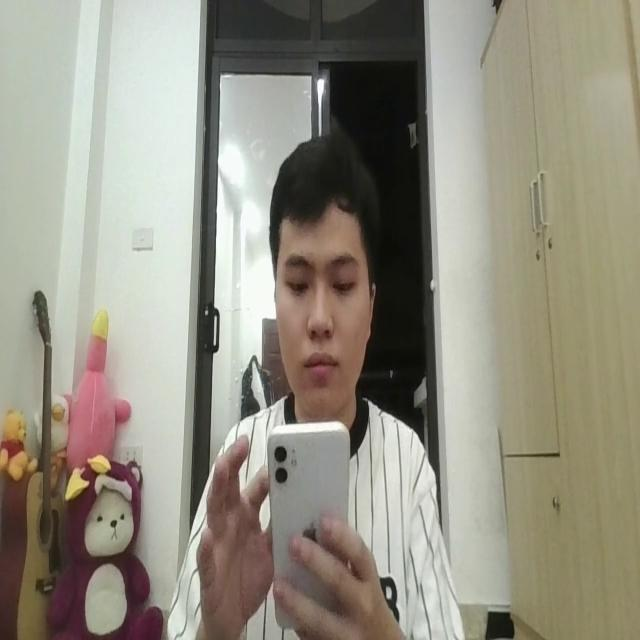phone: (266, 413, 350, 640)
student: (168, 117, 464, 640)
